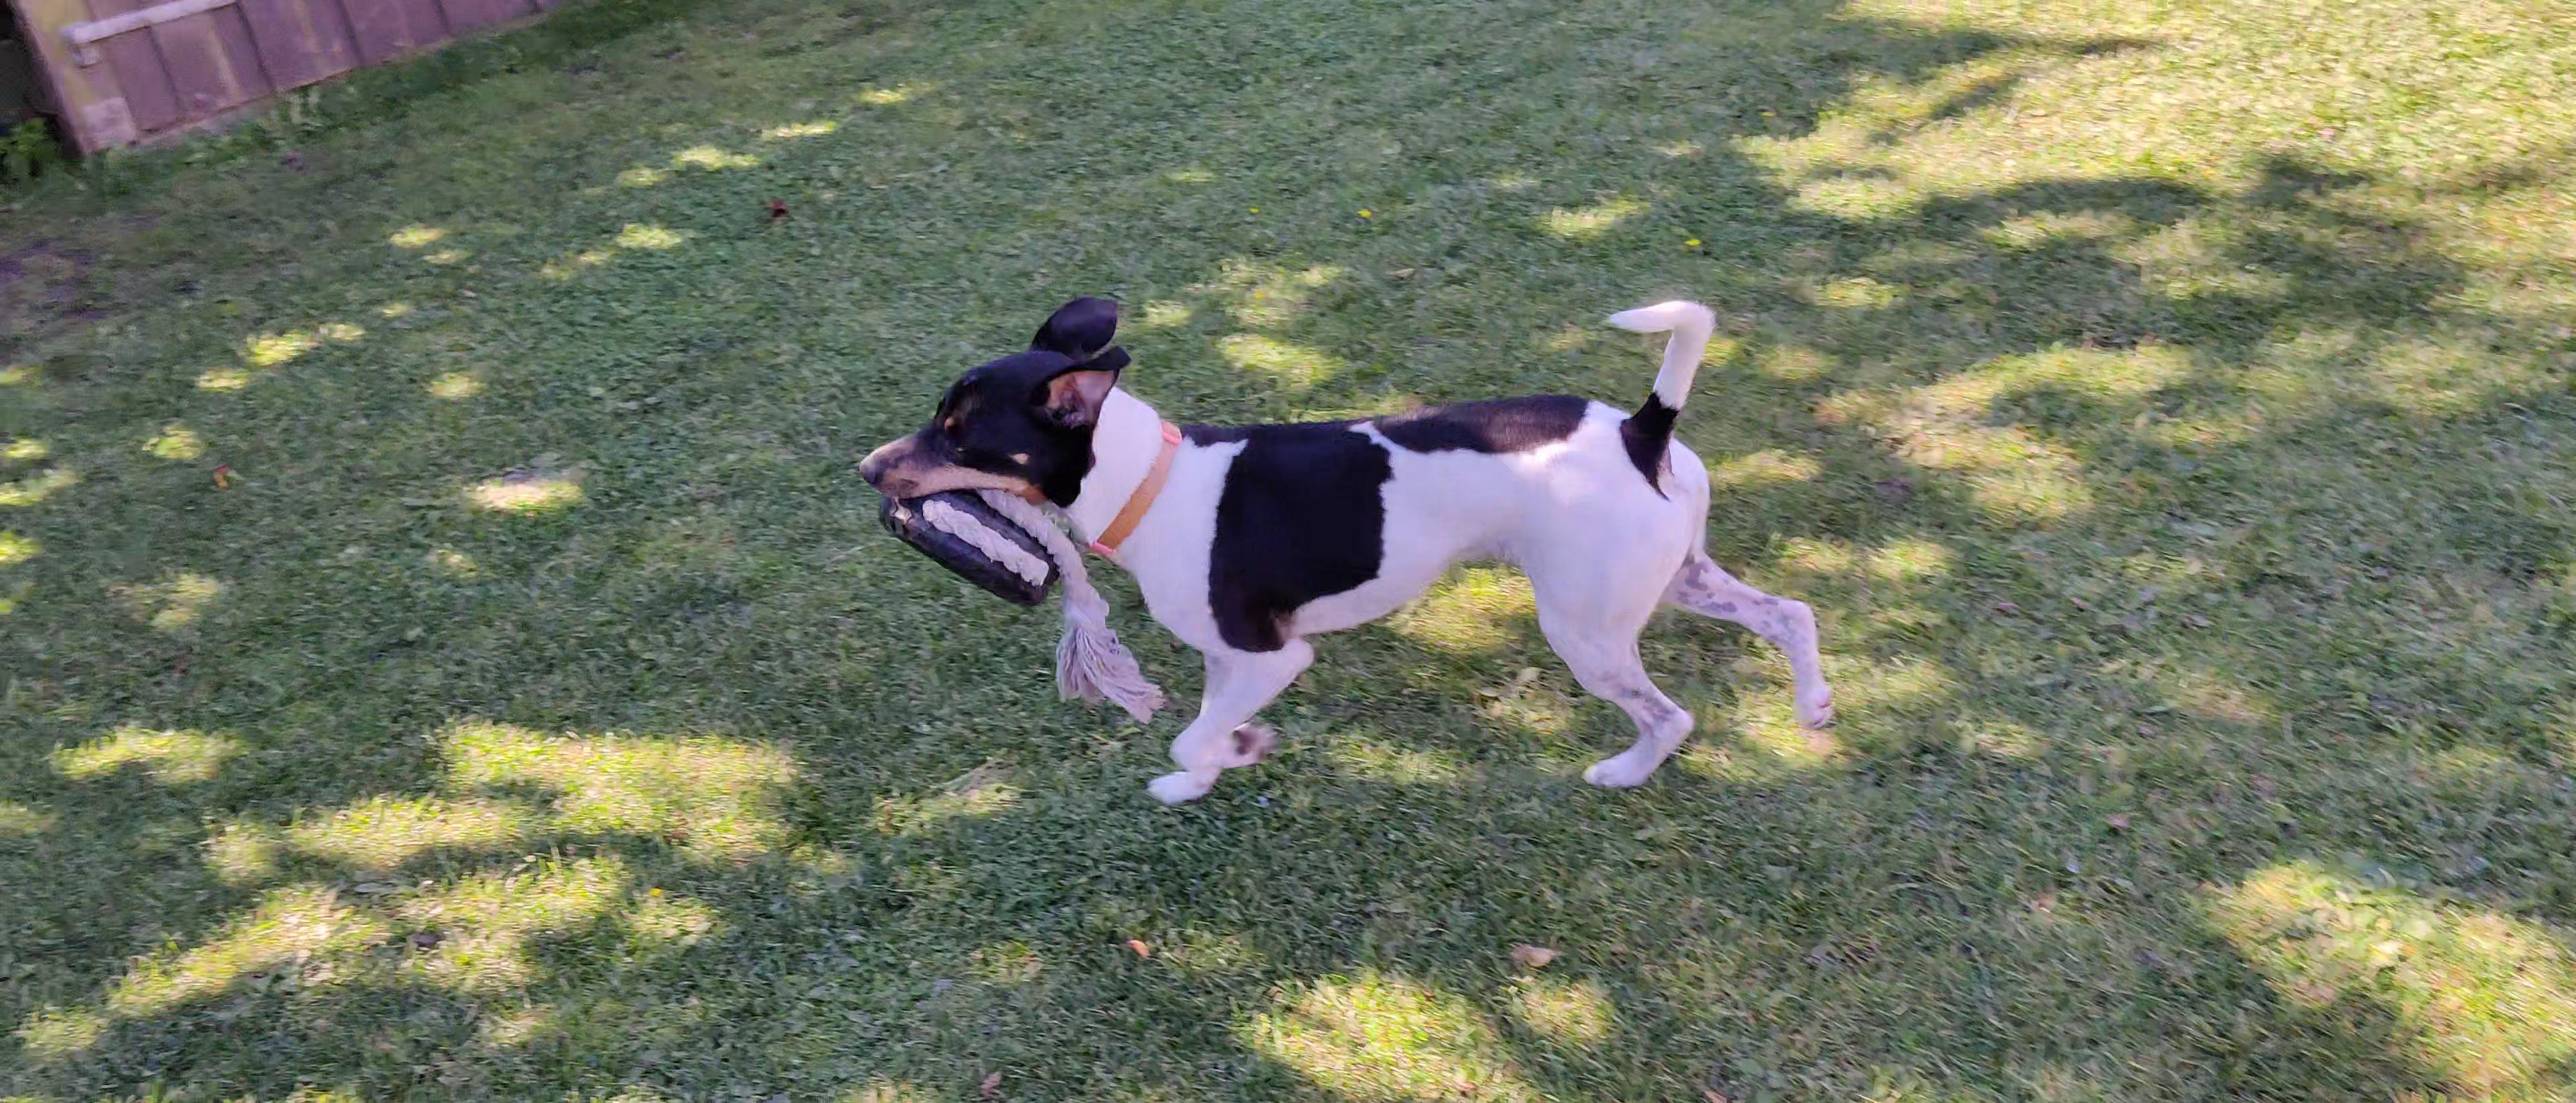Dog: (856, 293, 1837, 814)
